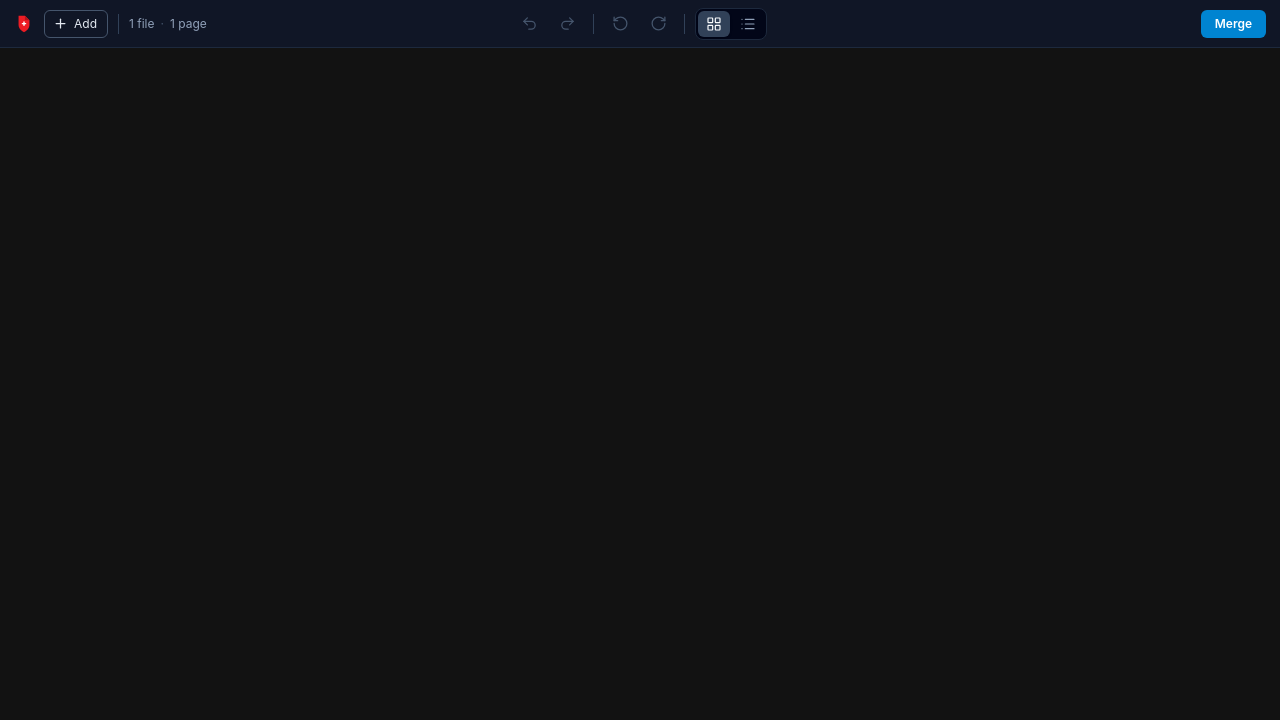
Scenario: Toolbar › names the failing file in a dialog and keeps the marker after it is closed
What coordinates should you click on to do the following:
click the button "Merge"
I would click on:
 (1233, 24)
Its box is [1201,10,1266,38].
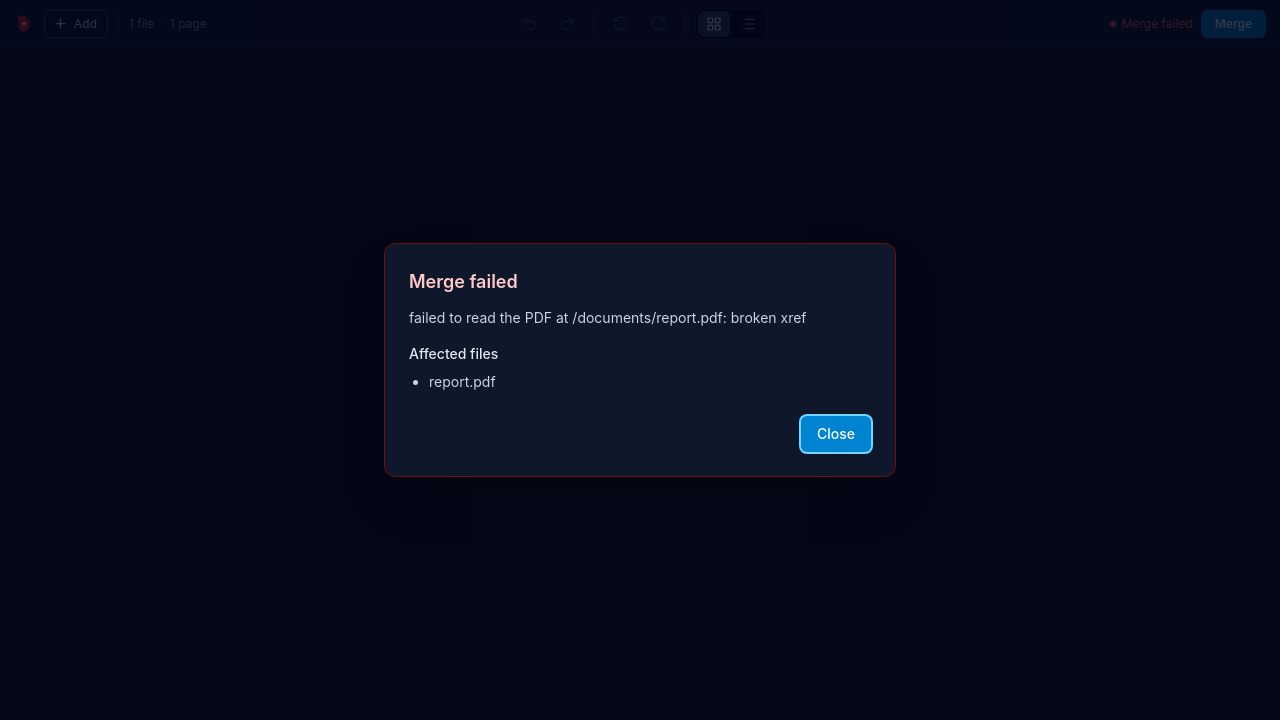
Expected: the dialog shows "broken xref", [409,309,806,326]
What coordinates should you click on to do the following:
click the button "Close"
I would click on:
 (836, 434)
Its box is [801,416,871,452].
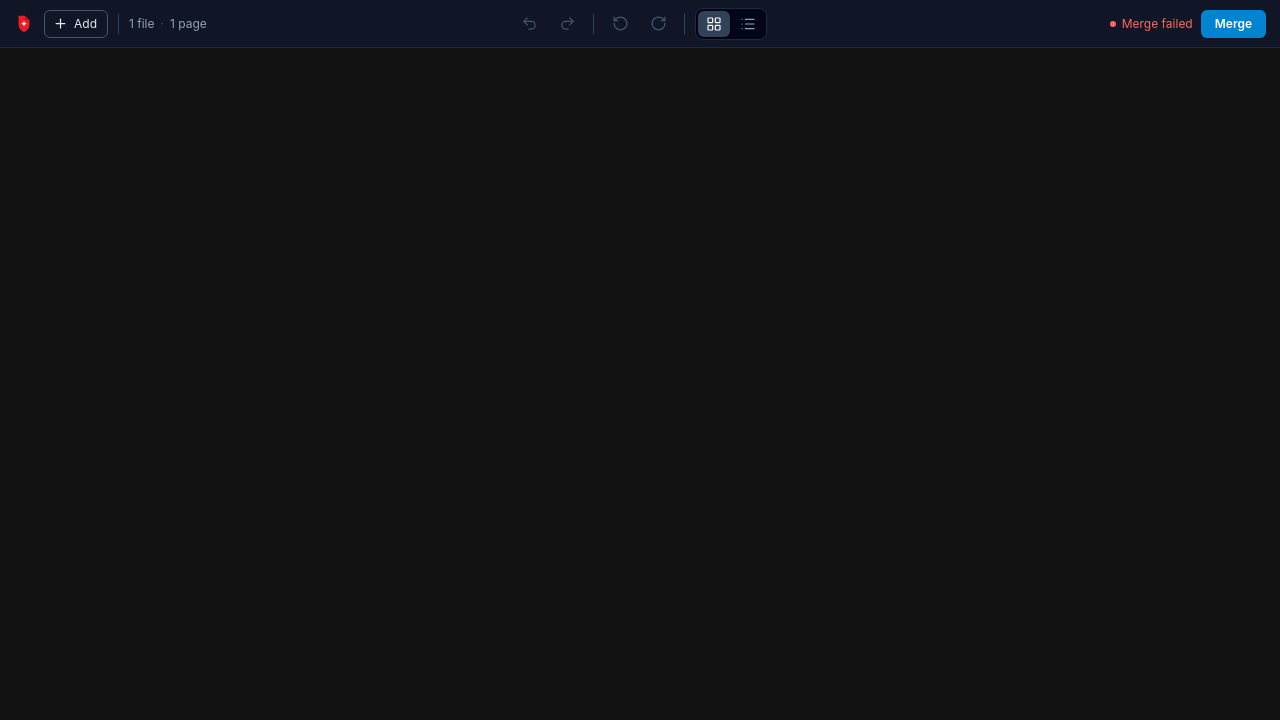
Expected: the text "Merge failed" is shown, [1110,16,1193,32]
Expected: the dialog is gone
